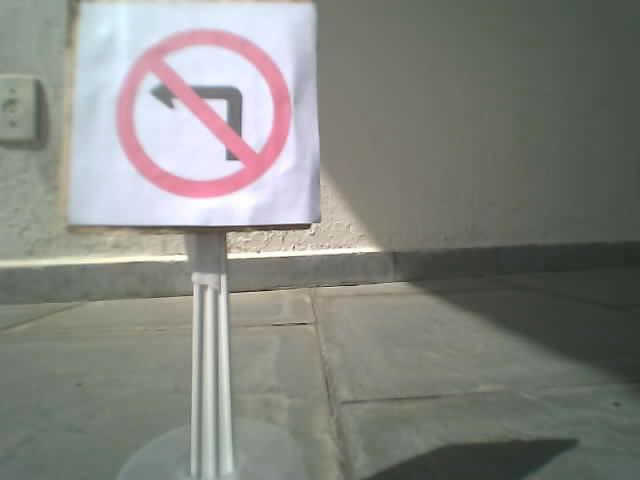R-4a_proibido-esquerda: (115, 28, 290, 198)
